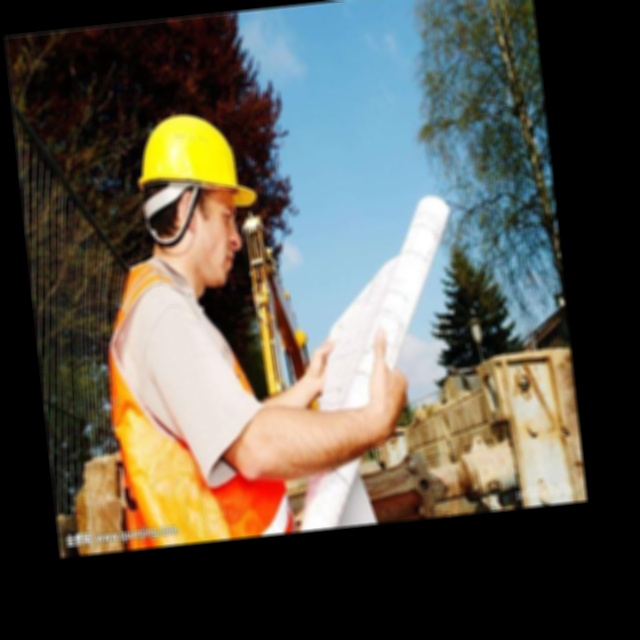Con_Casco: (134, 109, 247, 289)
